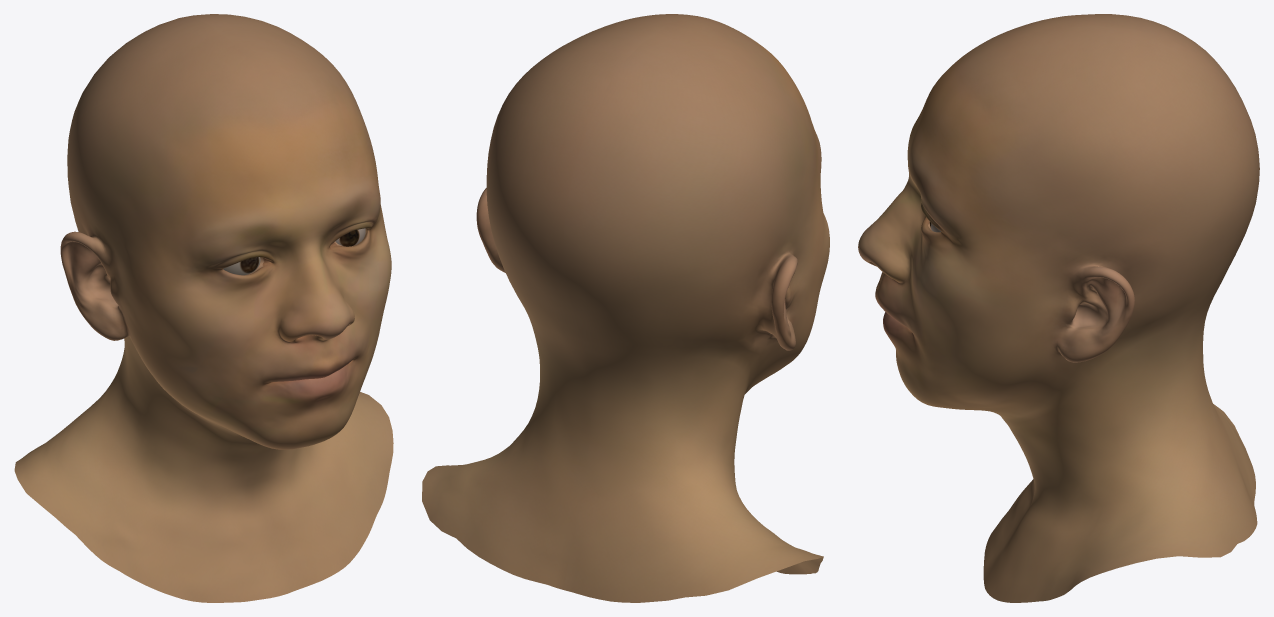
3 views of the same model, side by side, from view 1: azimuth 30°, elevation 25°; view 2: azimuth 150°, elevation 25°; view 3: azimuth 270°, elevation 25° (orthographic). The views are drawn at different scales.
Visible parts, largest first — view 1: Registered head; view 2: Registered head; view 3: Registered head.
Part boxes in pixels (x1,y1,x2,y2): Registered head: (14,14,393,602); Registered head: (422,14,829,602); Registered head: (858,14,1259,602).
Bounding box in the file's own units: 1.31 × 1.85 × 1.25.
3 materials, 3 textured.
